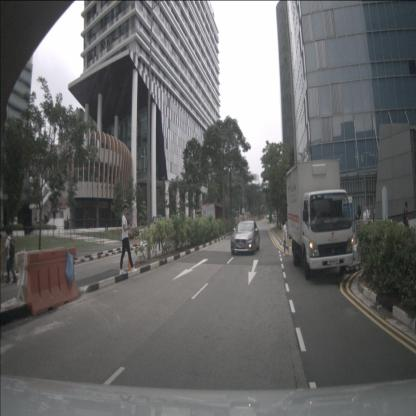human-pedestrian-adult: (120, 204, 136, 273), (1, 229, 18, 283), (6, 227, 15, 278), (362, 203, 370, 241), (403, 201, 410, 243), (282, 220, 289, 256), (158, 218, 164, 251)
movable_object-barrier: (27, 246, 79, 317), (14, 247, 65, 302)
movable_object-trafficcone: (127, 249, 132, 271), (133, 235, 136, 245)
vehicle-car: (231, 221, 260, 255)
vehicle-truck: (286, 159, 354, 279)
